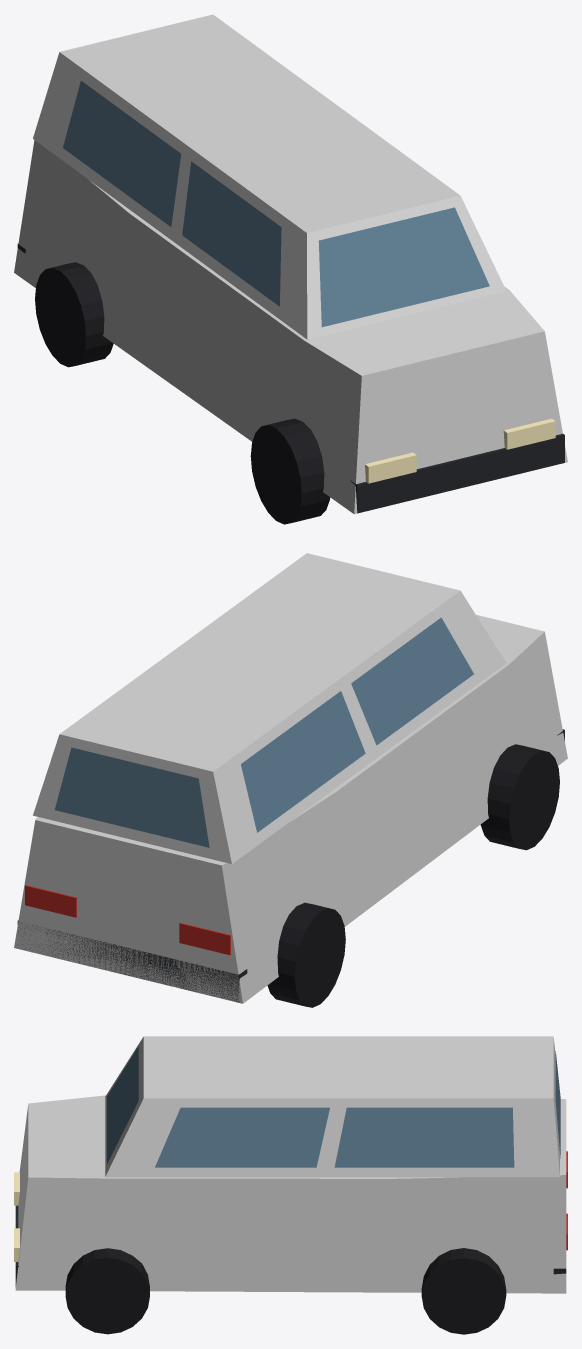
File: mpv.glb
The picture shows the model from 3 angles, top to bottom: view 1: azimuth 30°, elevation 25°; view 2: azimuth 150°, elevation 25°; view 3: azimuth 270°, elevation 25°; orthographic projection. The views are drawn at different scales.
Visible parts, largest first — view 1: body, cabin, glass_screen, glass_side_0_L, glass_side_1_L, wheel_1_L_tyre, bumper_nose, wheel_0_L_tyre, head_R, head_L; view 2: body, cabin, glass_back, glass_side_0_L, glass_side_1_L, wheel_1_L_tyre, wheel_0_L_tyre, bumper_tail, tail_L, tail_R; view 3: body, cabin, glass_side_0_R, glass_side_1_R, wheel_1_R_tyre, wheel_0_R_tyre, glass_screen.
Boxes of the visible parts, x1,y1,x2,y2 form: body: [14, 140, 567, 514]; cabin: [33, 14, 506, 339]; glass_screen: [318, 207, 489, 327]; glass_side_0_L: [63, 80, 181, 226]; glass_side_1_L: [182, 161, 281, 306]; wheel_1_L_tyre: [250, 418, 330, 524]; bumper_nose: [350, 434, 564, 513]; wheel_0_L_tyre: [35, 262, 113, 367]; head_R: [503, 418, 555, 449]; head_L: [365, 452, 416, 483]; body: [14, 615, 567, 1003]; cabin: [33, 553, 506, 863]; glass_back: [54, 747, 209, 847]; glass_side_0_L: [241, 691, 365, 832]; glass_side_1_L: [351, 617, 473, 745]; wheel_1_L_tyre: [480, 744, 559, 850]; wheel_0_L_tyre: [267, 902, 345, 1007]; bumper_tail: [17, 920, 247, 1002]; tail_L: [179, 922, 230, 955]; tail_R: [25, 885, 76, 917]; body: [15, 1095, 566, 1293]; cabin: [105, 1036, 559, 1177]; glass_side_0_R: [334, 1107, 514, 1167]; glass_side_1_R: [155, 1107, 329, 1167]; wheel_1_R_tyre: [65, 1248, 149, 1334]; wheel_0_R_tyre: [421, 1248, 506, 1334]; glass_screen: [107, 1046, 138, 1163].
Size of the model in its own units: 1.94 by 1.85 by 4.32.
